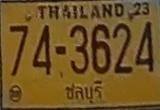2: (112, 23, 132, 73)
3: (69, 24, 88, 73)
4: (32, 24, 51, 74), (135, 21, 153, 71)
6: (91, 24, 110, 73)
7: (10, 25, 28, 74)
CBI: (59, 78, 106, 105)
